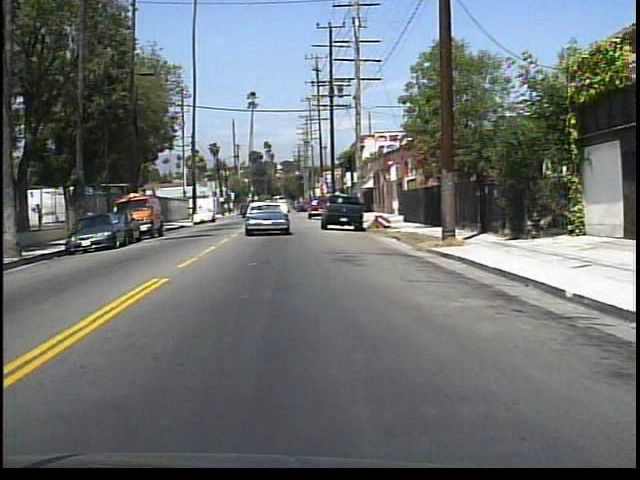person: (33, 202, 47, 231)
